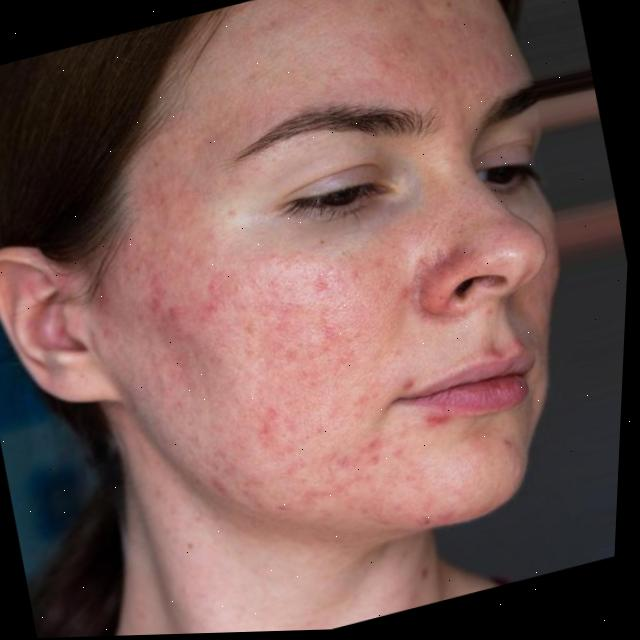Rosacea: (135, 209, 462, 548), (335, 0, 522, 119)
